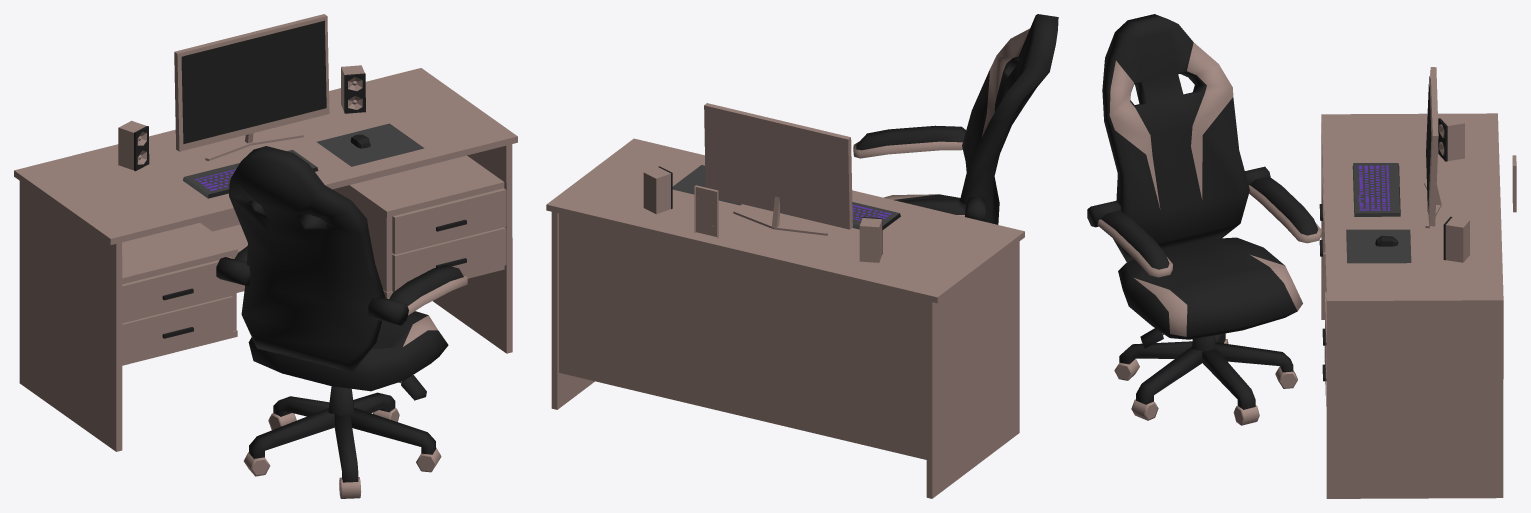
The model's file is GamingSetup2.fbx.
The picture shows the model from 3 angles, left to right: view 1: azimuth 30°, elevation 25°; view 2: azimuth 150°, elevation 25°; view 3: azimuth 270°, elevation 25°; orthographic projection. The views are drawn at different scales.
Visible parts, largest first — view 1: GamingSetup2; view 2: GamingSetup2; view 3: GamingSetup2.
Part boxes in pixels (<box>): GamingSetup2: <box>14,14,517,498</box>; GamingSetup2: <box>546,14,1058,498</box>; GamingSetup2: <box>1087,14,1516,498</box>.
Size of the model in its own units: 70.02 by 57.08 by 67.56.
